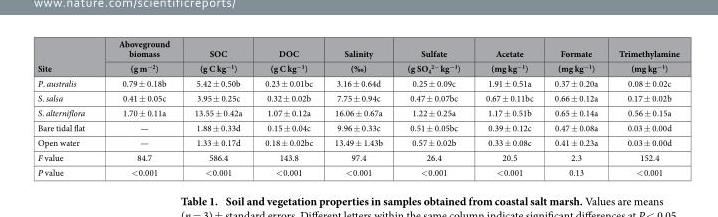table: (36, 37, 678, 178)
table column: (101, 37, 181, 178), (394, 37, 472, 178), (181, 37, 252, 178), (252, 37, 323, 178), (323, 37, 394, 178), (472, 37, 543, 178), (607, 37, 678, 178), (36, 37, 101, 178), (543, 37, 607, 178)
table column header: (36, 37, 678, 75)
table row: (36, 37, 678, 60), (36, 60, 678, 75), (36, 75, 678, 90), (36, 90, 678, 105), (36, 119, 678, 134), (36, 134, 678, 149), (36, 149, 678, 164), (36, 105, 678, 119), (36, 164, 678, 178)
table spanning cell: (101, 37, 181, 75), (394, 37, 472, 75), (181, 37, 252, 75), (252, 37, 323, 75), (323, 37, 394, 75), (472, 37, 543, 75), (607, 37, 678, 75), (36, 37, 101, 75), (543, 37, 607, 75)
